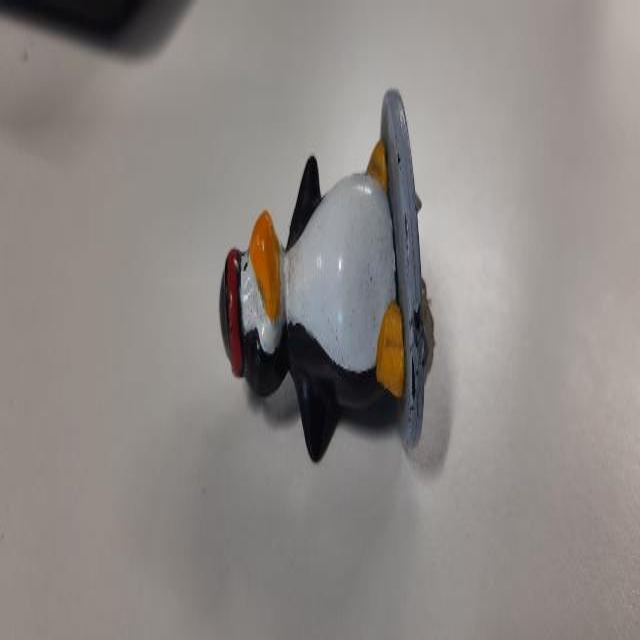Penguin: (210, 74, 443, 473)
